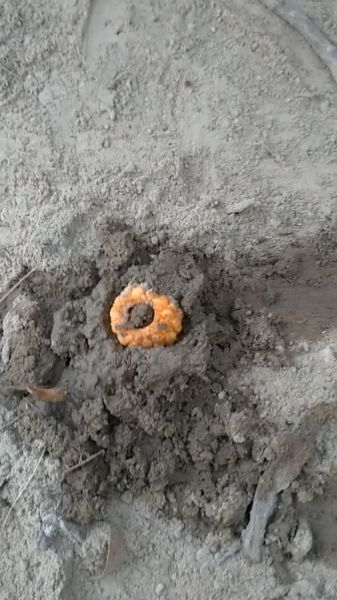eggs: (105, 279, 190, 350)
